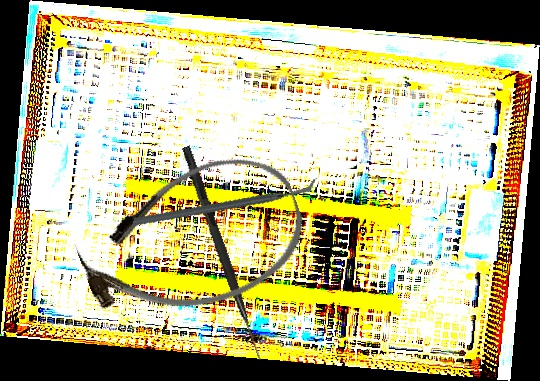Cannula: (63, 137, 320, 343)
Chopper: (132, 139, 317, 265)
Hook Surgical: (179, 145, 267, 362)
